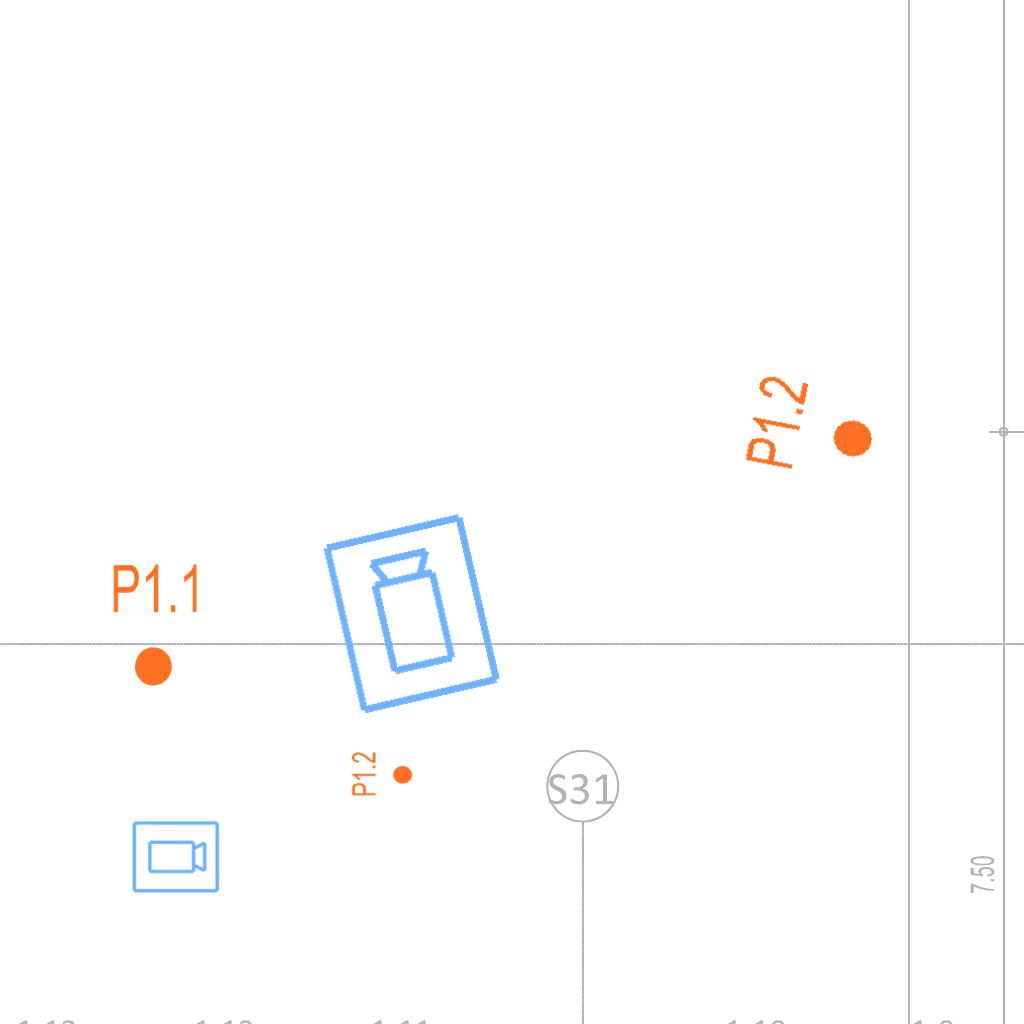Downlight_LED_Einbauleuchten_Flur: (740, 371, 885, 487), (110, 561, 203, 689), (350, 751, 414, 797)
KFO_Kamera_mit_Festobjektiv: (317, 508, 509, 720), (130, 819, 221, 896)
